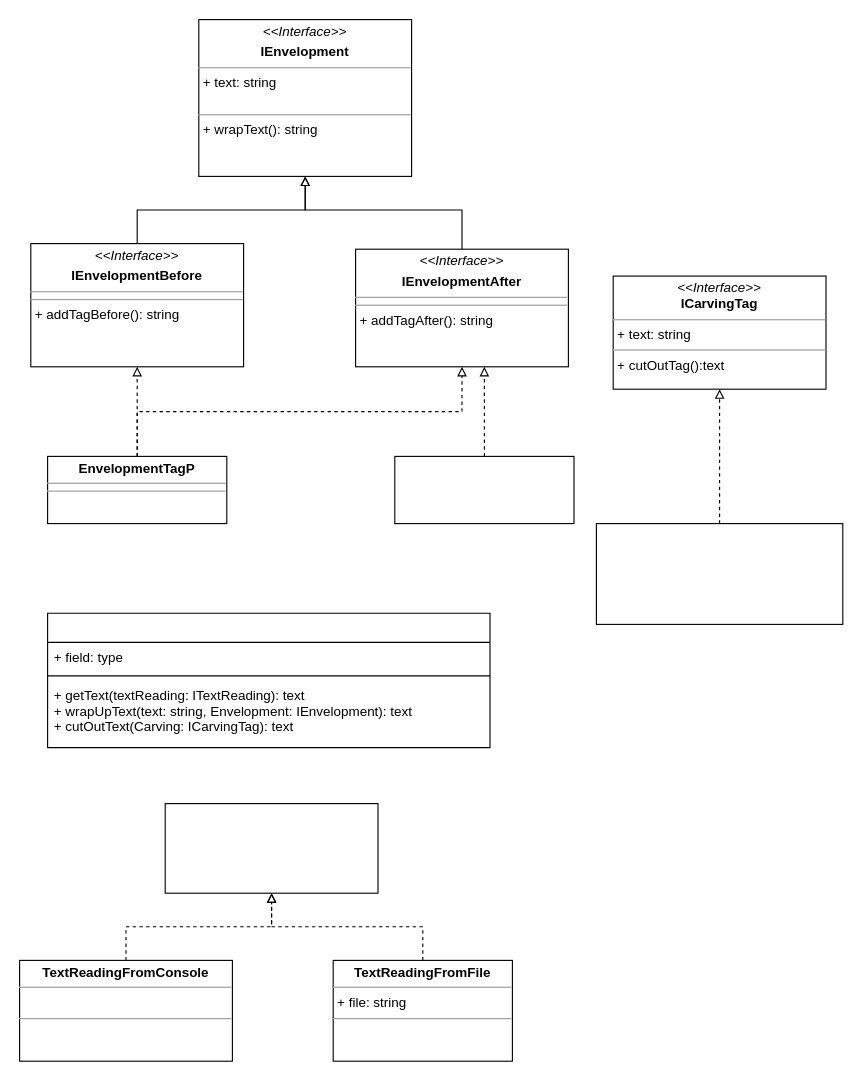
Some shapes in this 862 by 1081 pixel diagram are drawn without their labels. The box of each missing label's shape, as (x1, y1, x2, y2) in pixels:
<<Interface>> ITextReading + readText(Type): string: (164, 802, 378, 893)
CarvingTags + tags: List<string> + cutOutAllTags(): string: (595, 522, 843, 624)
EnvelopmentTagBr: (394, 455, 574, 524)
Manager: (46, 612, 490, 748)
